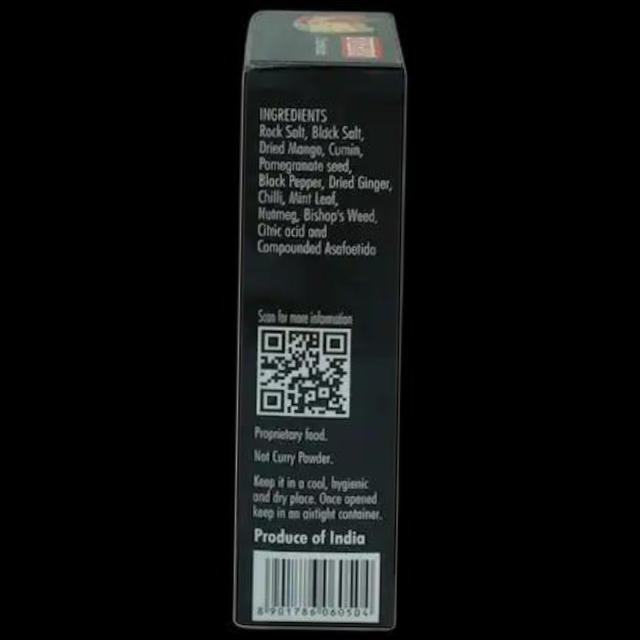Everest Chaat Masala 50 g: (224, 7, 413, 636)
